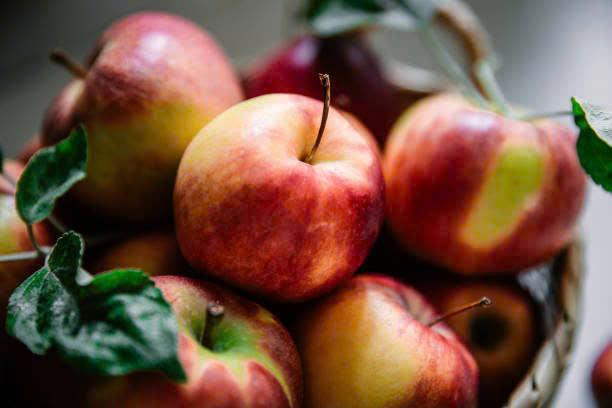apple: (170, 91, 383, 293), (381, 88, 602, 270), (32, 10, 187, 200), (304, 267, 483, 408)
